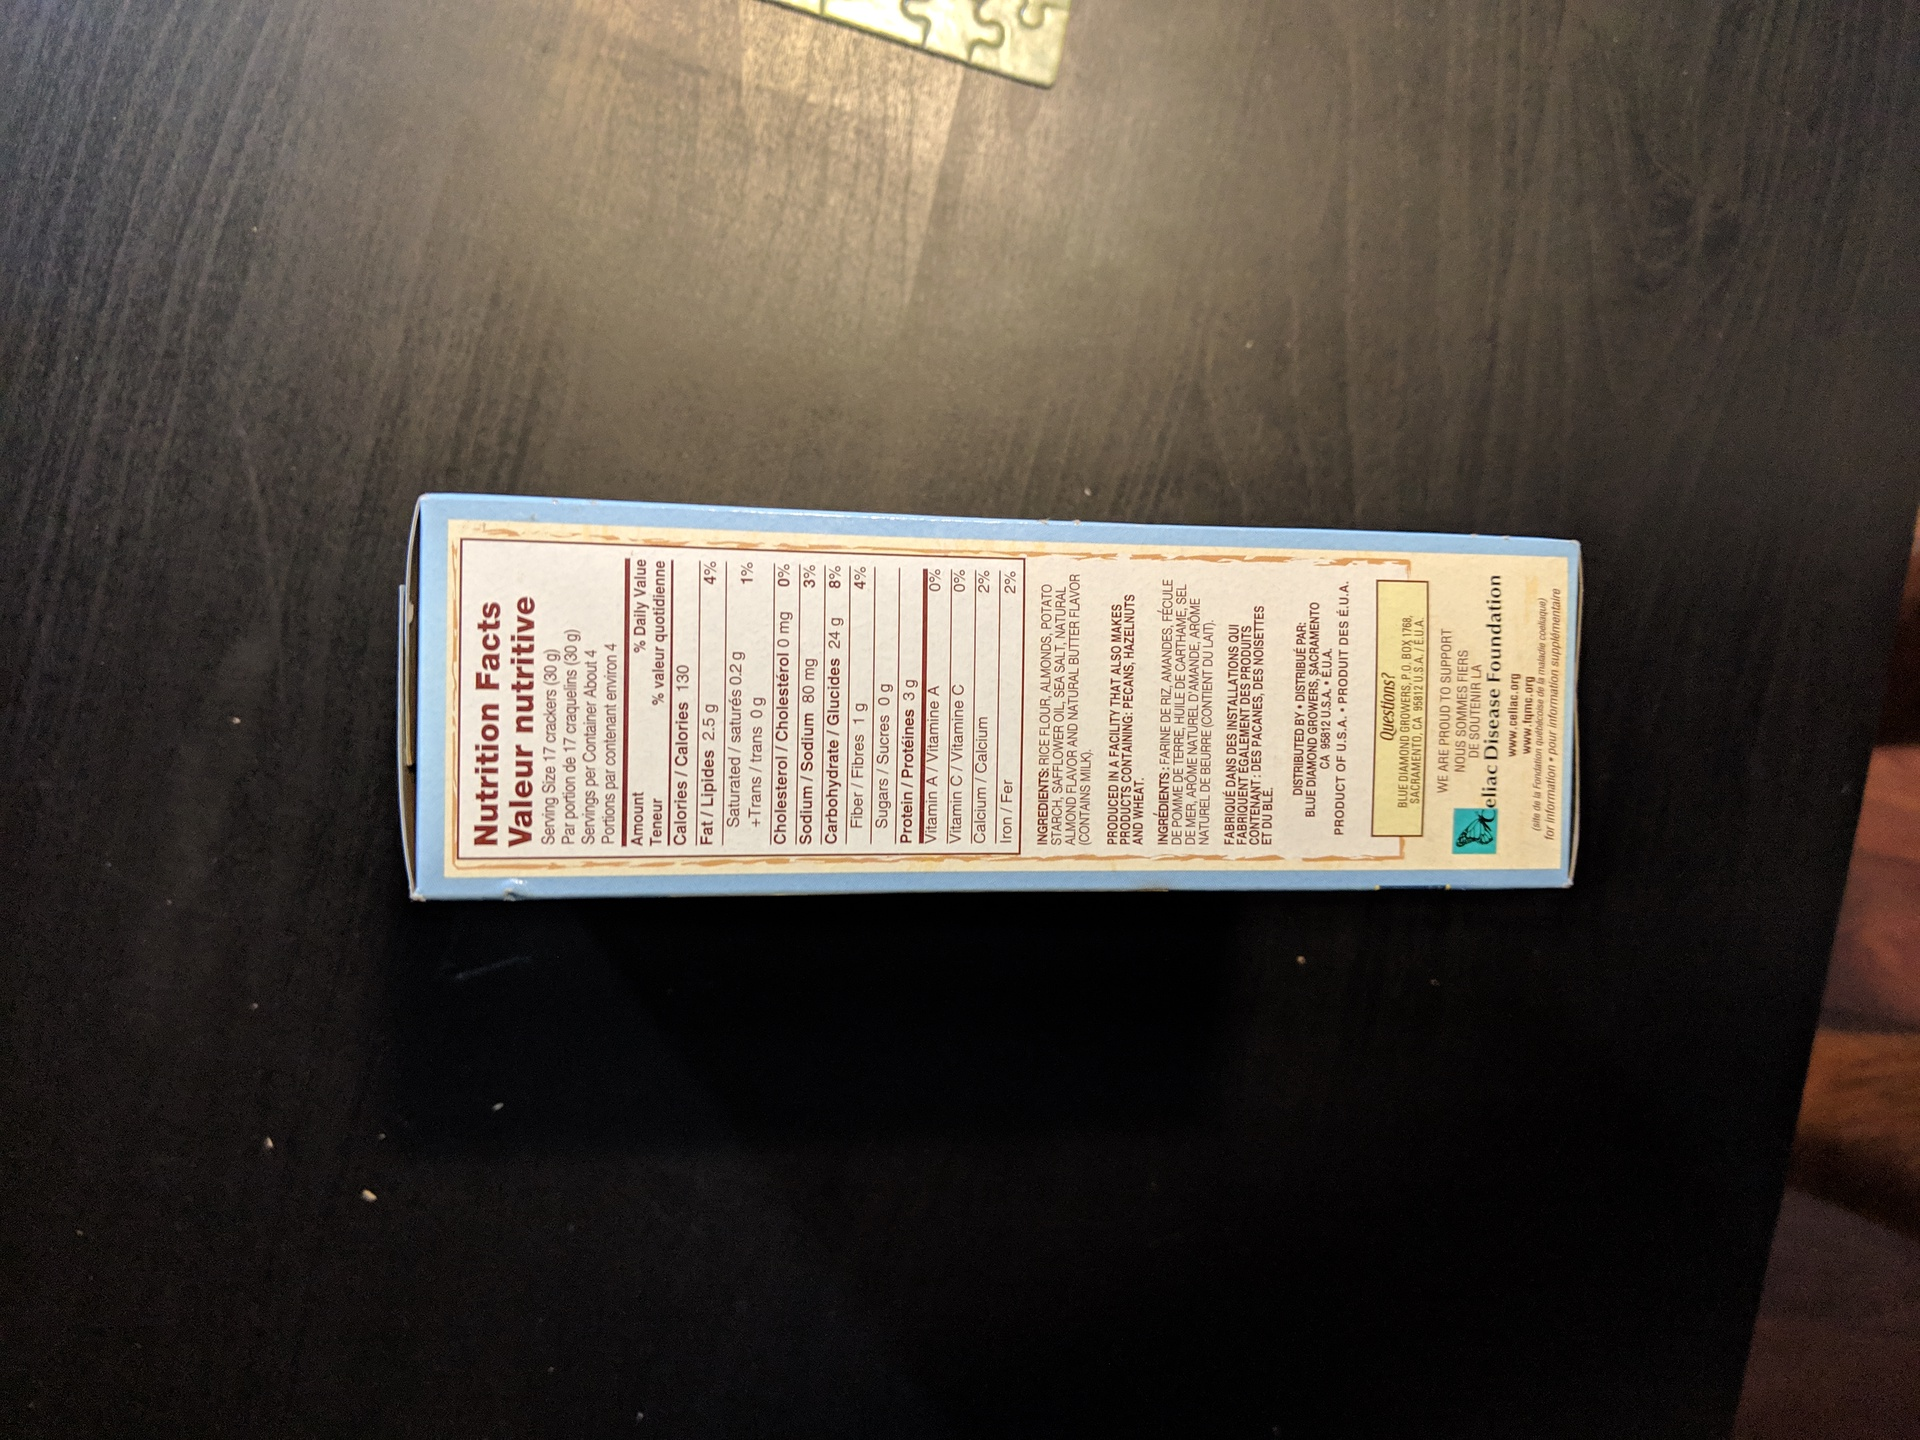blue_diamond_nut_thins_almond_seasalt: (395, 496, 1589, 905)
